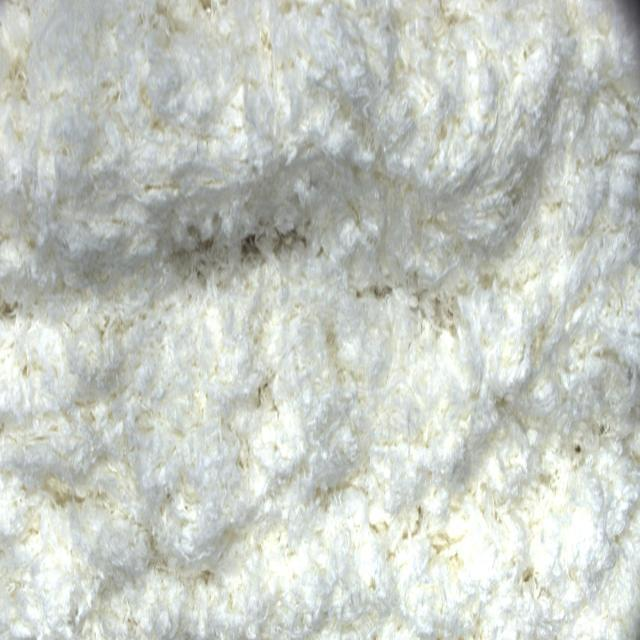dust: (242, 235, 263, 266)
